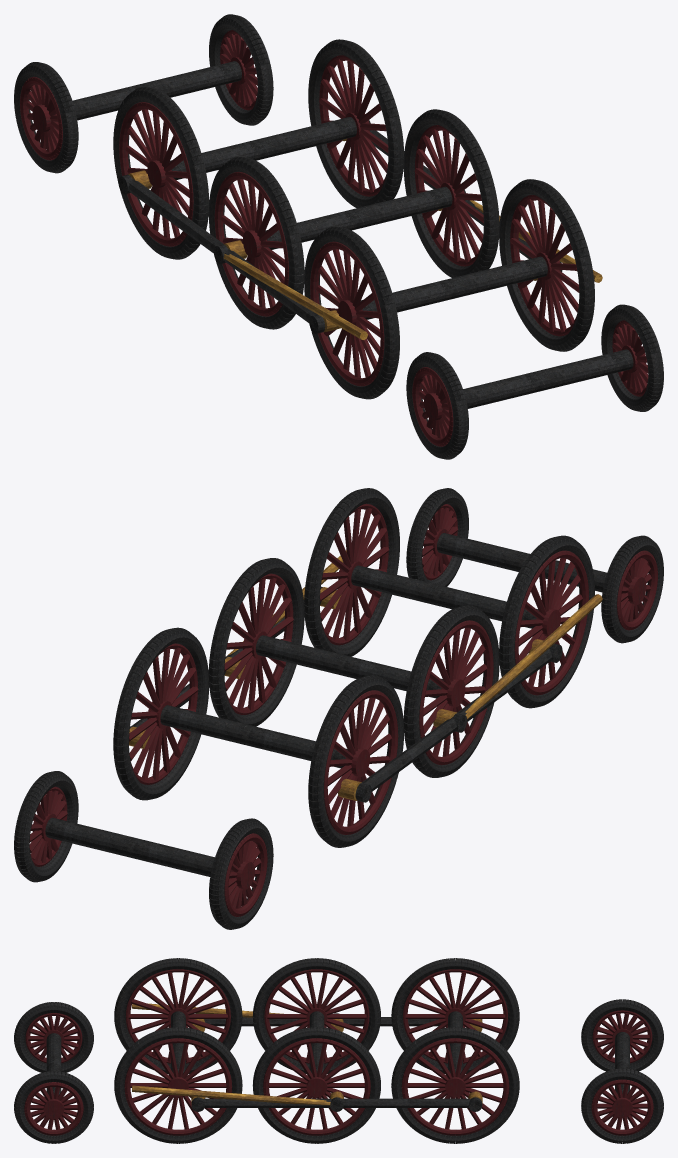
Rendered from Wheels.fbx.
3 views of the same model, one above another, from view 1: azimuth 30°, elevation 25°; view 2: azimuth 150°, elevation 25°; view 3: azimuth 270°, elevation 25° (orthographic). The views are drawn at different scales.
Parts seen in each view (by area): view 1: Wheels_BlackSteel, Wheels_Scarlet, Wheels_Brass; view 2: Wheels_BlackSteel, Wheels_Scarlet, Wheels_Brass; view 3: Wheels_BlackSteel, Wheels_Scarlet, Wheels_Brass.
Boxes of the visible parts, x1,y1,x2,y2 form: Wheels_BlackSteel: [14, 14, 663, 459]; Wheels_Scarlet: [20, 30, 648, 446]; Wheels_Brass: [128, 138, 602, 339]; Wheels_BlackSteel: [14, 488, 663, 929]; Wheels_Scarlet: [29, 503, 657, 916]; Wheels_Brass: [129, 538, 602, 800]; Wheels_BlackSteel: [14, 958, 663, 1143]; Wheels_Scarlet: [24, 969, 653, 1135]; Wheels_Brass: [132, 1003, 482, 1106].
Bounding box in the file's own units: 2.88 × 9.15 × 1.81.
Materials: 3 (3 with a texture image).
